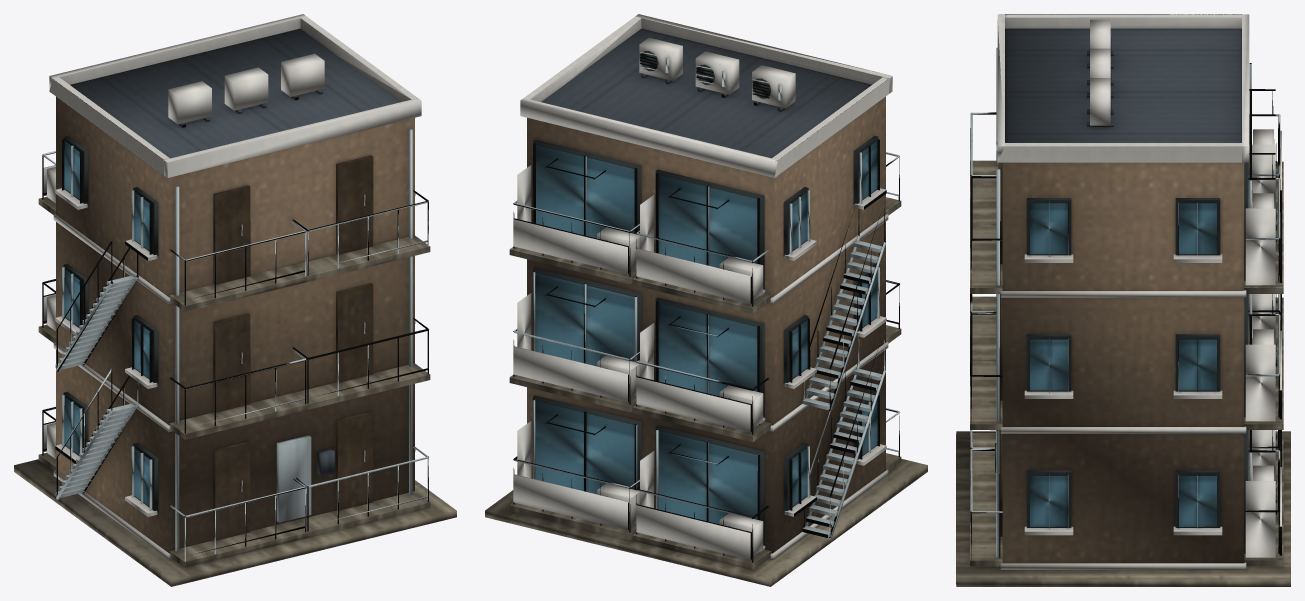
The model's file is residential_006.obj.
The picture shows the model from 3 angles, left to right: view 1: azimuth 30°, elevation 25°; view 2: azimuth 150°, elevation 25°; view 3: azimuth 270°, elevation 25°; orthographic projection. The views are drawn at different scales.
Visible parts, largest first — view 1: residential_006; view 2: residential_006; view 3: residential_006.
Boxes of the visible parts, x1,y1,x2,y2 form: residential_006: (14, 14, 456, 586); residential_006: (485, 14, 927, 586); residential_006: (956, 14, 1290, 586).
Bounding box in the file's own units: 7.34 × 10.16 × 6.77.
1 material, 1 textured.
